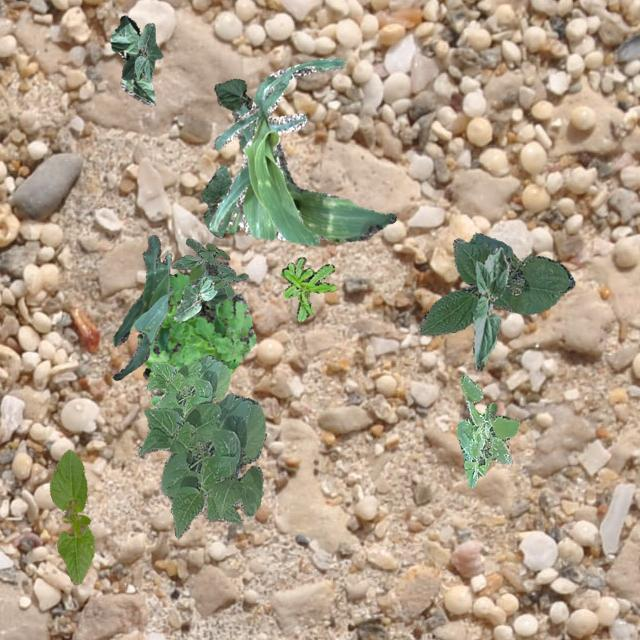crop: (208, 56, 344, 245), (232, 104, 396, 240), (137, 392, 266, 538), (418, 232, 574, 334), (112, 233, 172, 379), (48, 448, 94, 584), (144, 354, 230, 421), (471, 246, 508, 370), (110, 15, 154, 104), (120, 22, 162, 82), (172, 276, 226, 322), (213, 77, 256, 132), (202, 164, 230, 236)
weed: (136, 260, 255, 406), (456, 374, 518, 488), (170, 238, 247, 298), (280, 256, 334, 321)
